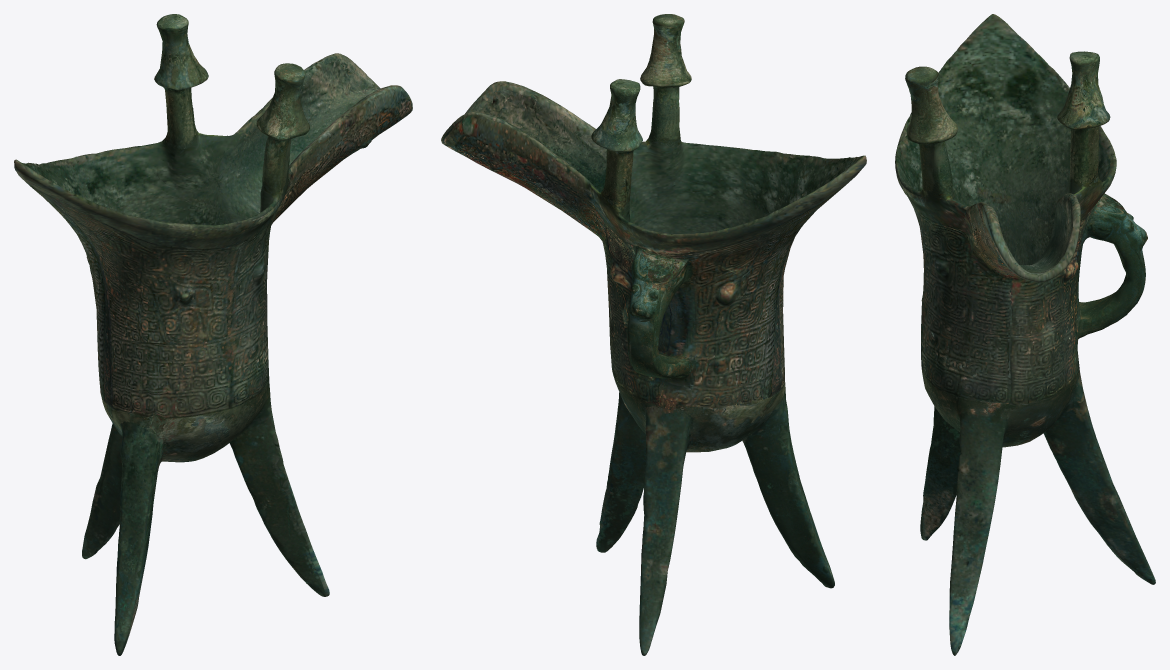
File: qtj.fbx
3 renders of one model, left to right at view 1: azimuth 30°, elevation 25°; view 2: azimuth 150°, elevation 25°; view 3: azimuth 270°, elevation 25°, orthographic. The views are drawn at different scales.
Visible parts, largest first — view 1: 3DXY_geometry_001; view 2: 3DXY_geometry_001; view 3: 3DXY_geometry_001.
Boxes of the visible parts, x1,y1,x2,y2 form: 3DXY_geometry_001: [14, 14, 412, 655]; 3DXY_geometry_001: [441, 14, 866, 655]; 3DXY_geometry_001: [895, 14, 1155, 655].
Bounding box in the file's own units: 17.01 × 21.93 × 9.28.
